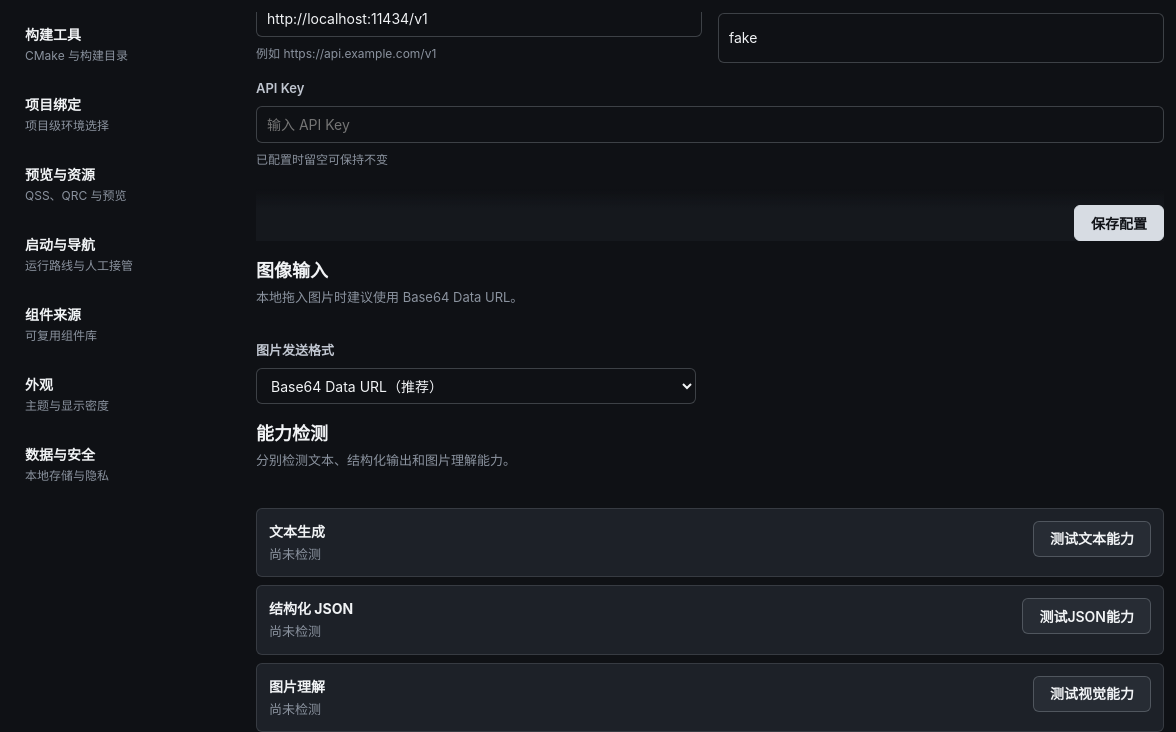
Test: SettingsPage › tests model capabilities independently and never renders an API key
(page scrolled)
Click the button "测试视觉能力" at (1092, 694), box [1033, 676, 1151, 712]
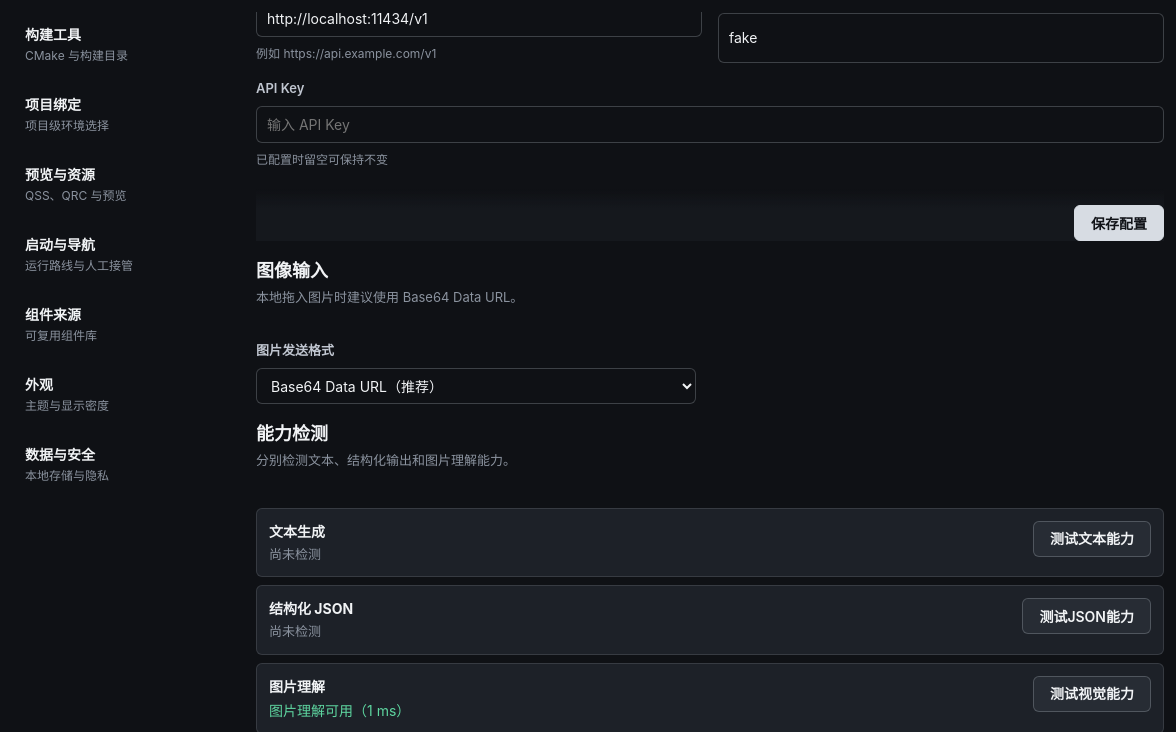
Now the text "图片理解可用（1 ms）" is shown, box [269, 702, 410, 718]
